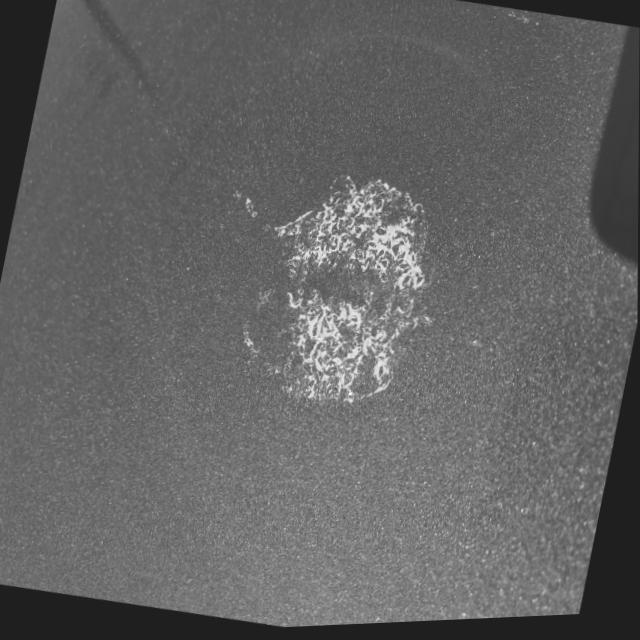Paint-Crack: (269, 168, 435, 410)
